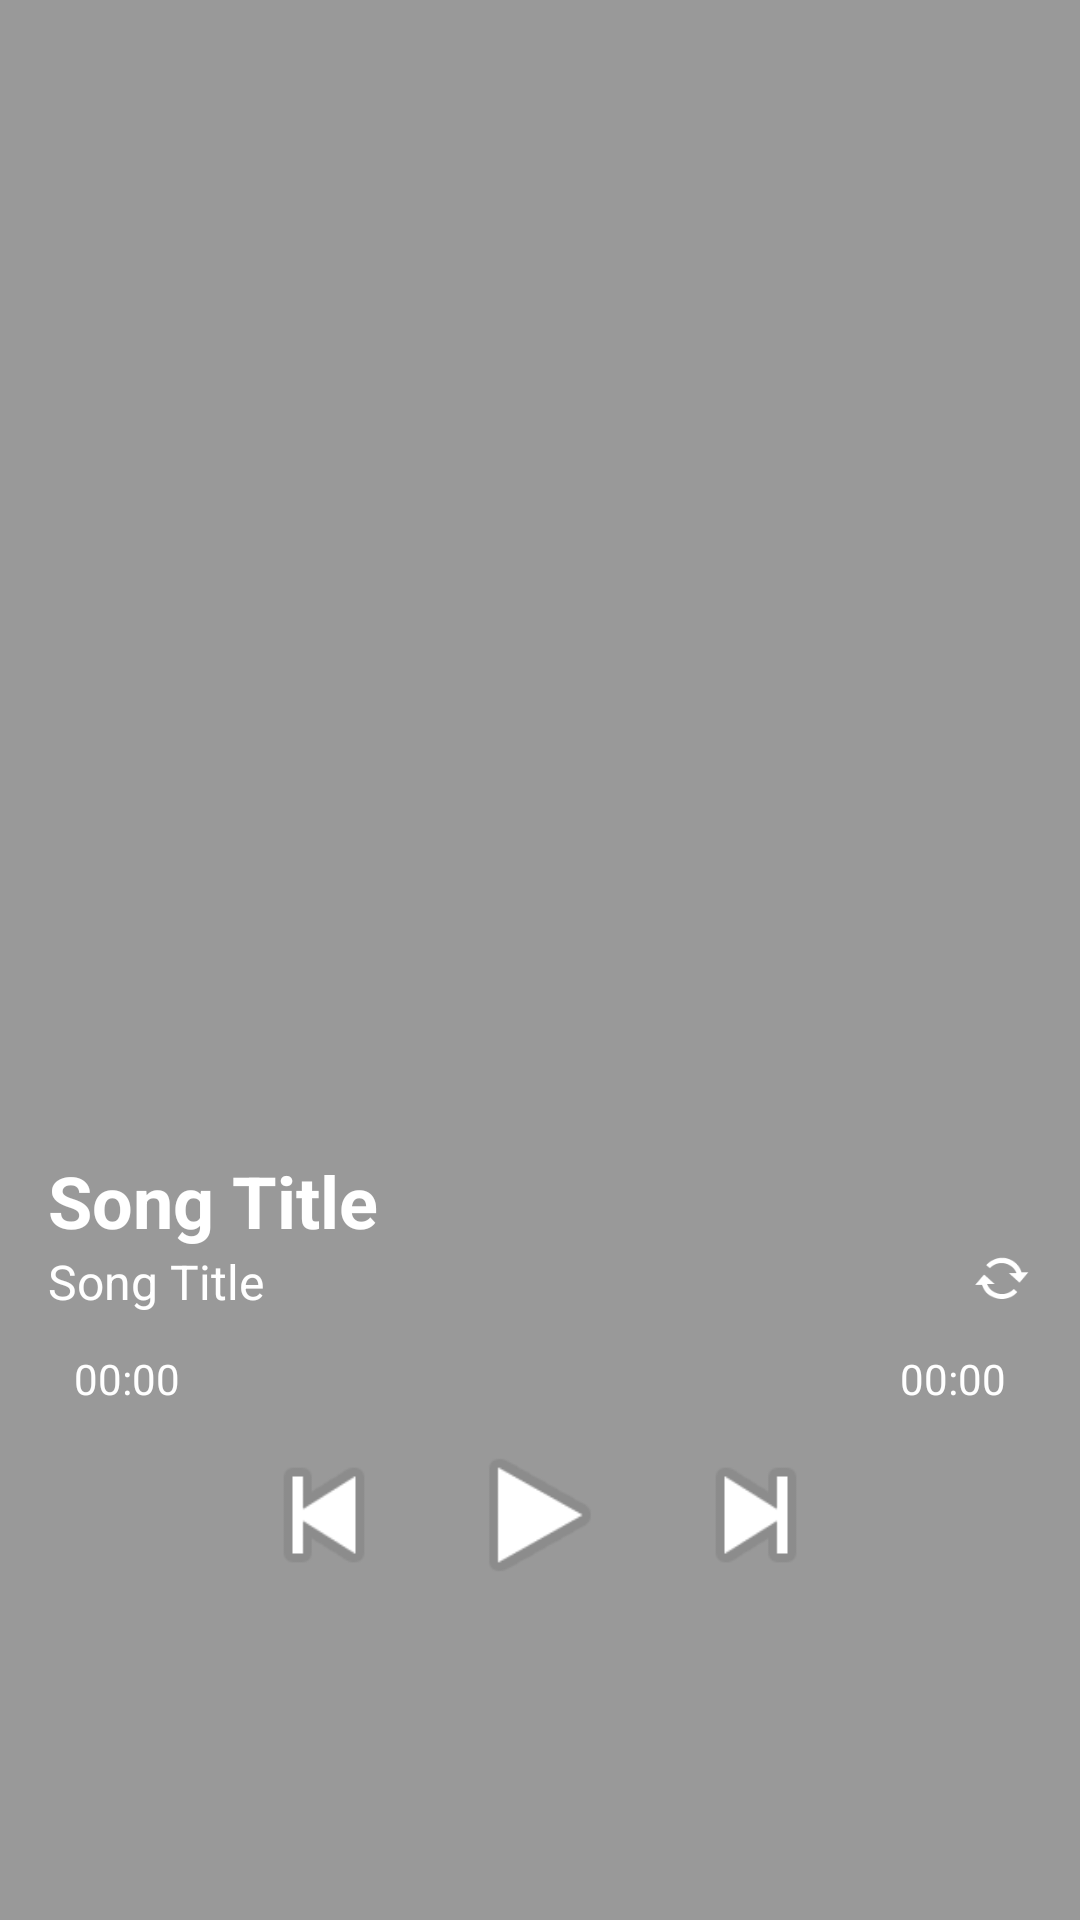

Point at icon controls on the screen. Image size 1080*1920, points as (x,y).
next: (756,1515)
play: (540,1515)
previous: (324,1515)
sync: (1001,1278)
